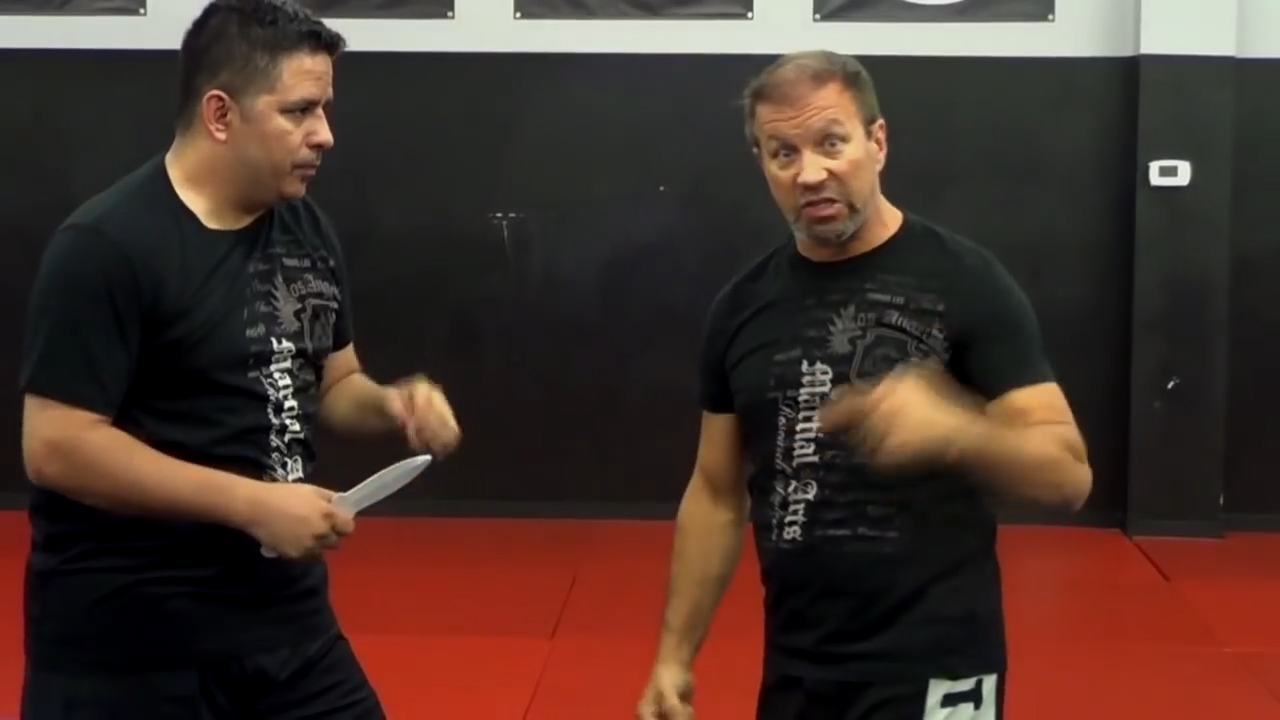knife: (253, 446, 439, 564)
